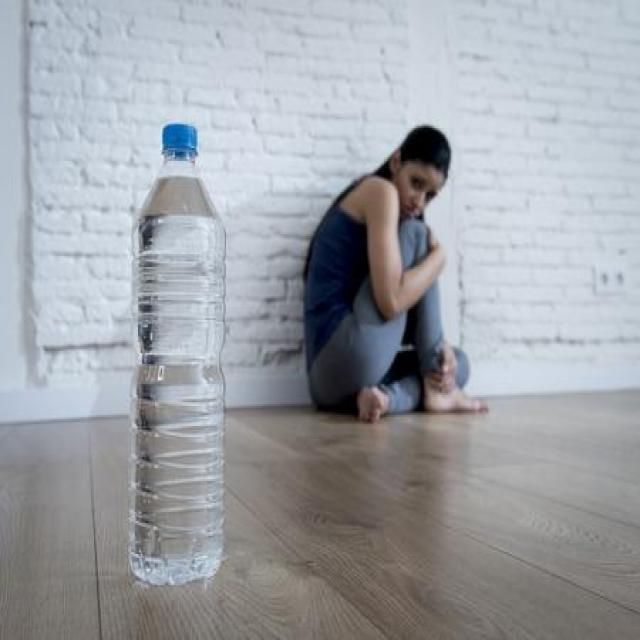bottle: (130, 118, 233, 594)
